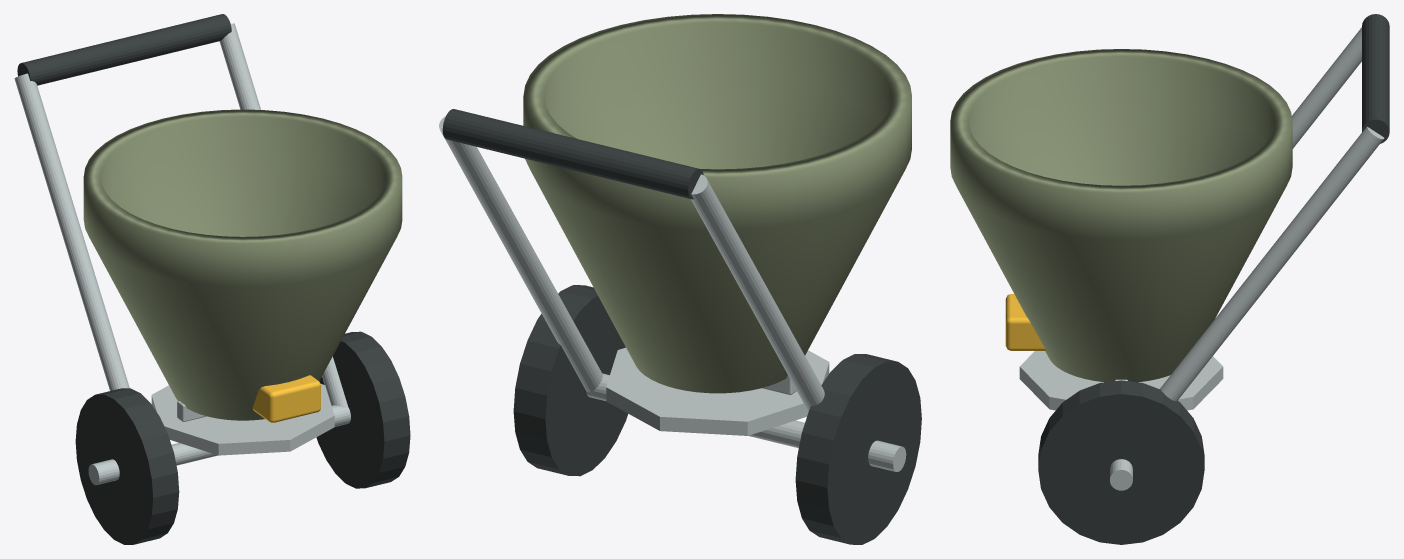
Rendered from mountain-border-checkpoint-mountain-border-checkpoint--75c7a7e2__30326.glb.
3 renders of one model, left to right at view 1: azimuth 30°, elevation 25°; view 2: azimuth 150°, elevation 25°; view 3: azimuth 270°, elevation 25°, orthographic. The views are drawn at different scales.
Parts seen in each view (by area): view 1: mountain-border-checkpoint-salt-spreader-cart; view 2: mountain-border-checkpoint-salt-spreader-cart; view 3: mountain-border-checkpoint-salt-spreader-cart.
Part boxes in pixels (bbox=[...]): mountain-border-checkpoint-salt-spreader-cart: bbox=[14, 14, 410, 544]; mountain-border-checkpoint-salt-spreader-cart: bbox=[439, 14, 921, 544]; mountain-border-checkpoint-salt-spreader-cart: bbox=[950, 14, 1389, 544].
Size of the model in its own units: 0.8 by 0.98 by 0.95.
